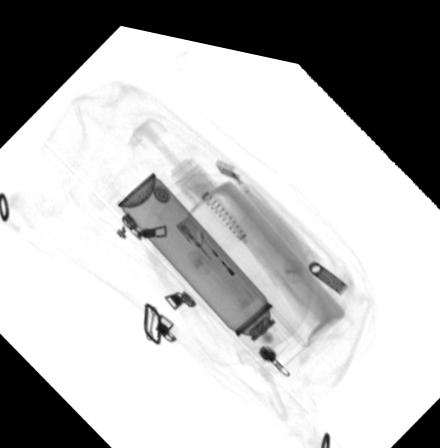Lighter: (172, 203, 262, 299)
Sprayer: (115, 164, 309, 365)
